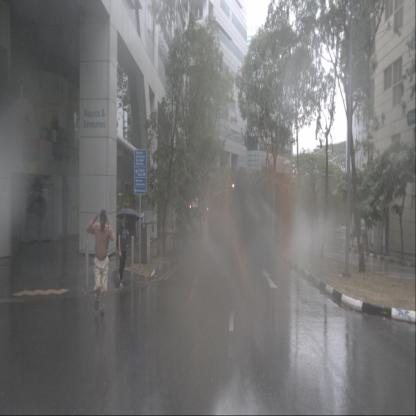human-pedestrian-adult: (85, 209, 115, 316), (116, 208, 140, 287), (139, 207, 145, 238)
